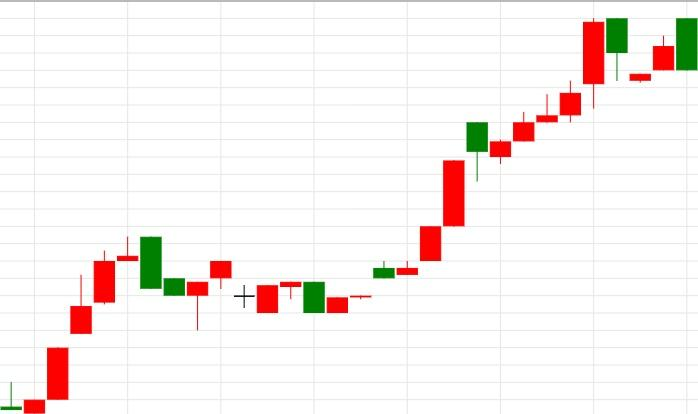bearish_engulfing_fall: (23, 236, 162, 413)
